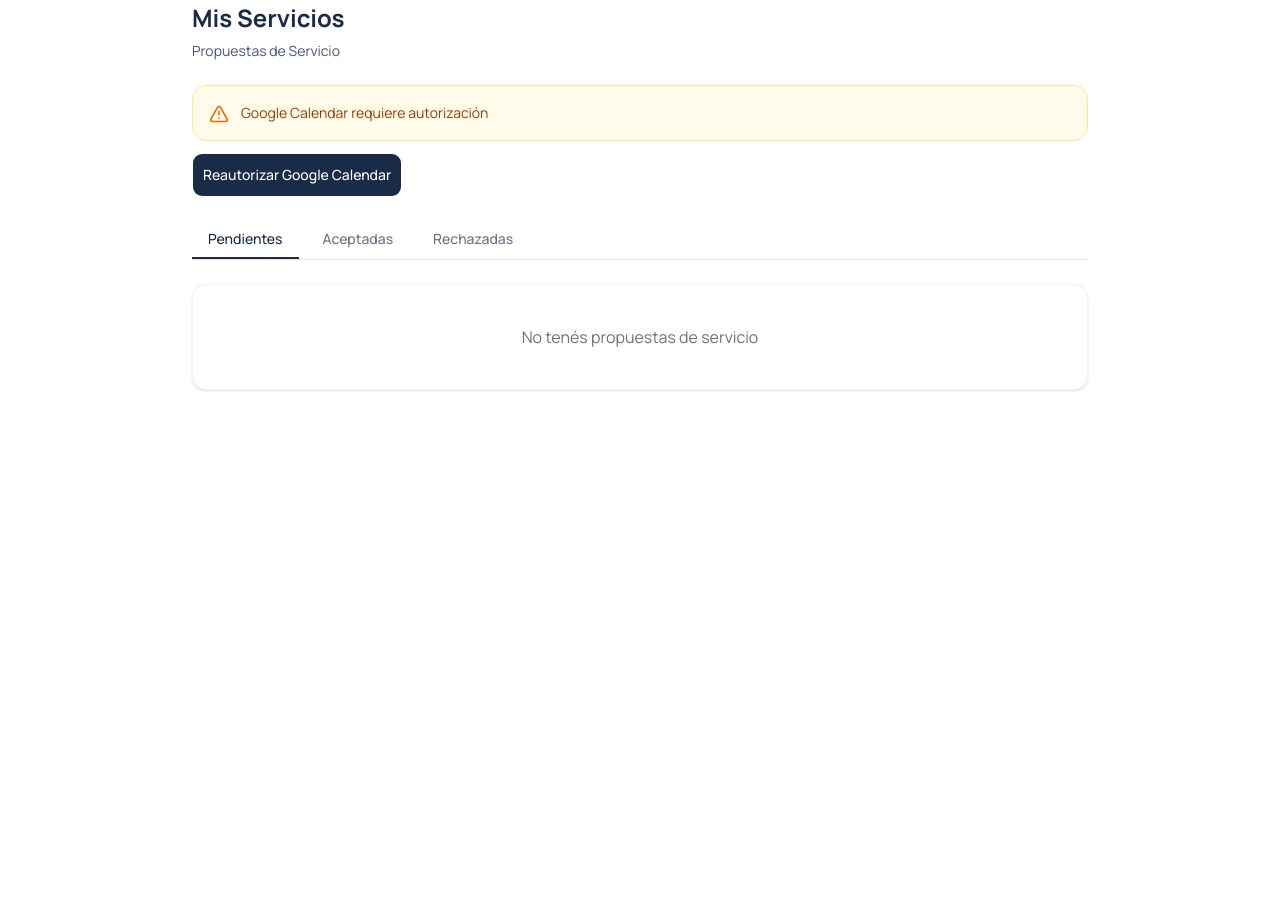
Test: ProposalHistoryView › shares a single pending authorization between list and order detail ($0)
Double-click the button "Reautorizar Google Calendar" at (297, 175), box [192,153,402,197]
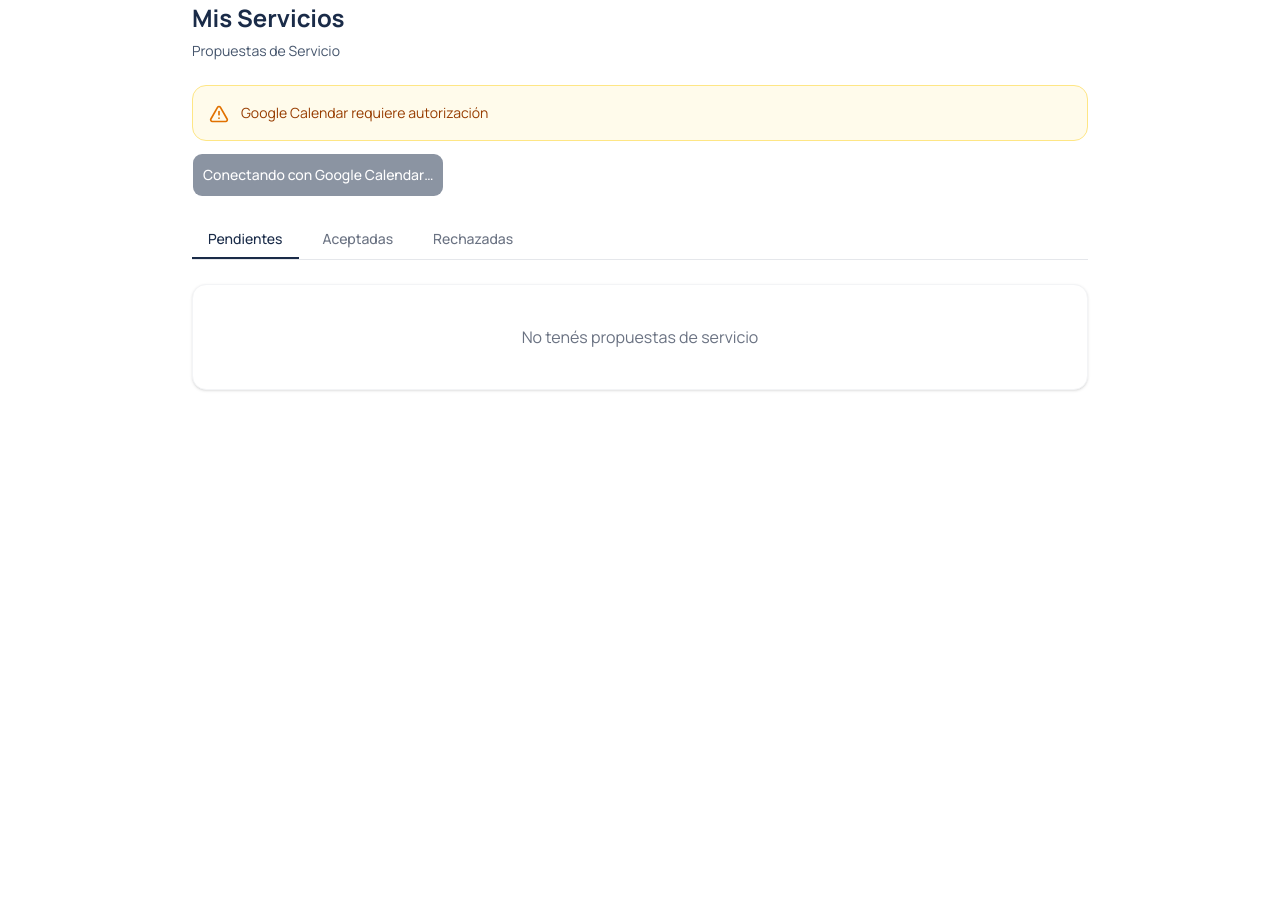
Result: the button named "Reautorizar Google Calendar" is disabled at [192,153,444,197]
Click the tab "Aceptadas" at (358, 240), box [307,221,409,259]
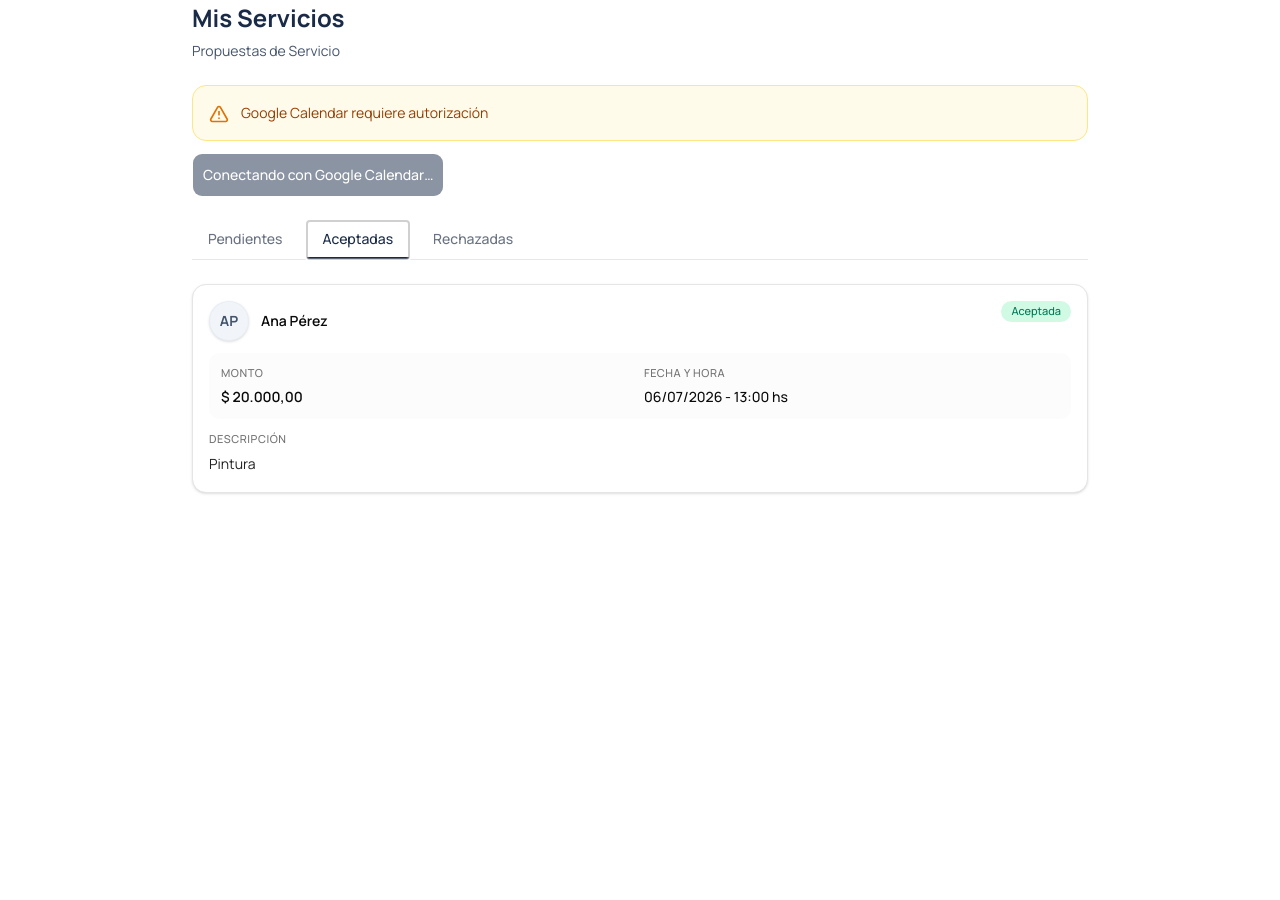
Click the button with test id "proposal-card" at (640, 388), box [192,284,1088,493]
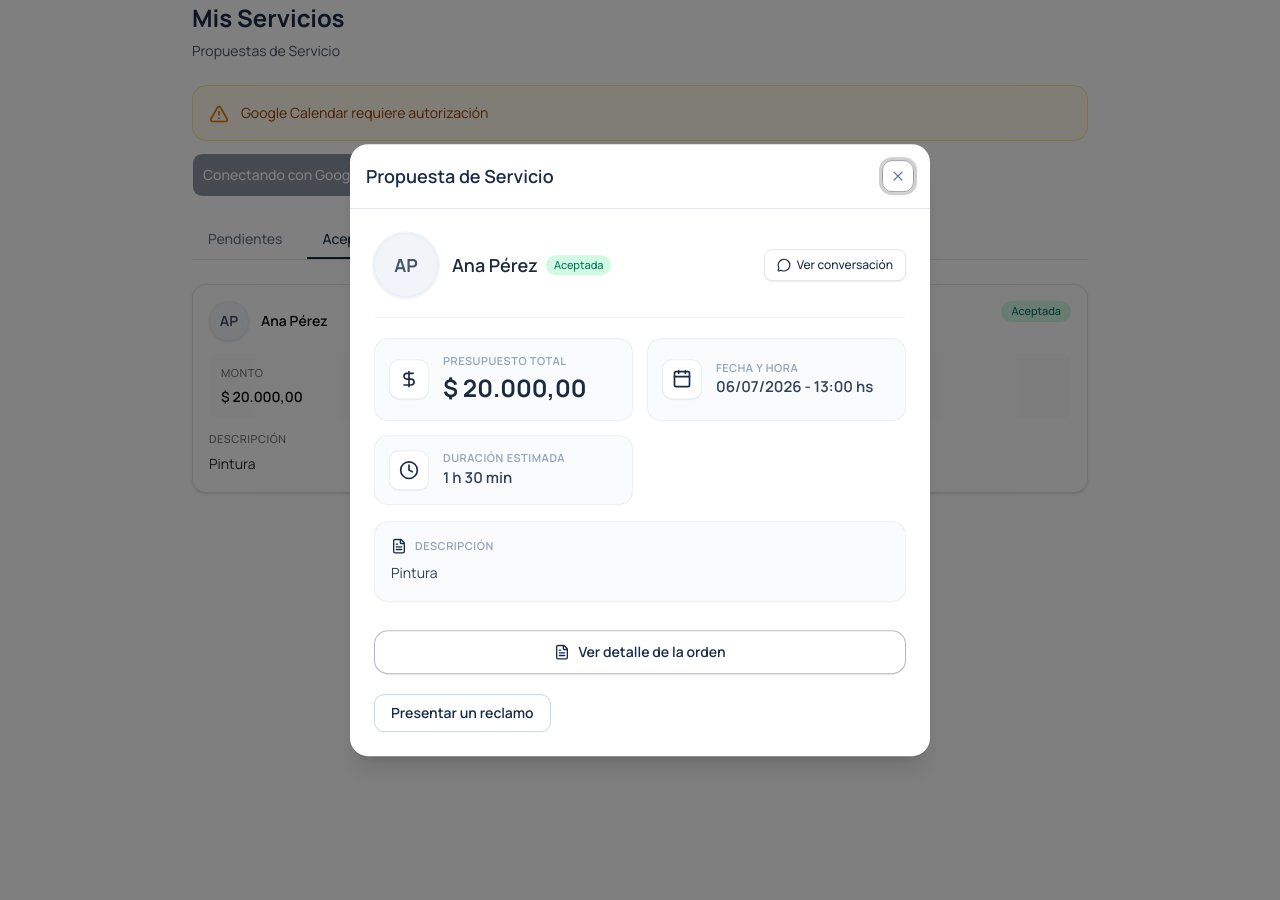
Click the button "Ver detalle de la orden" at (640, 652), box [374,630,906,674]
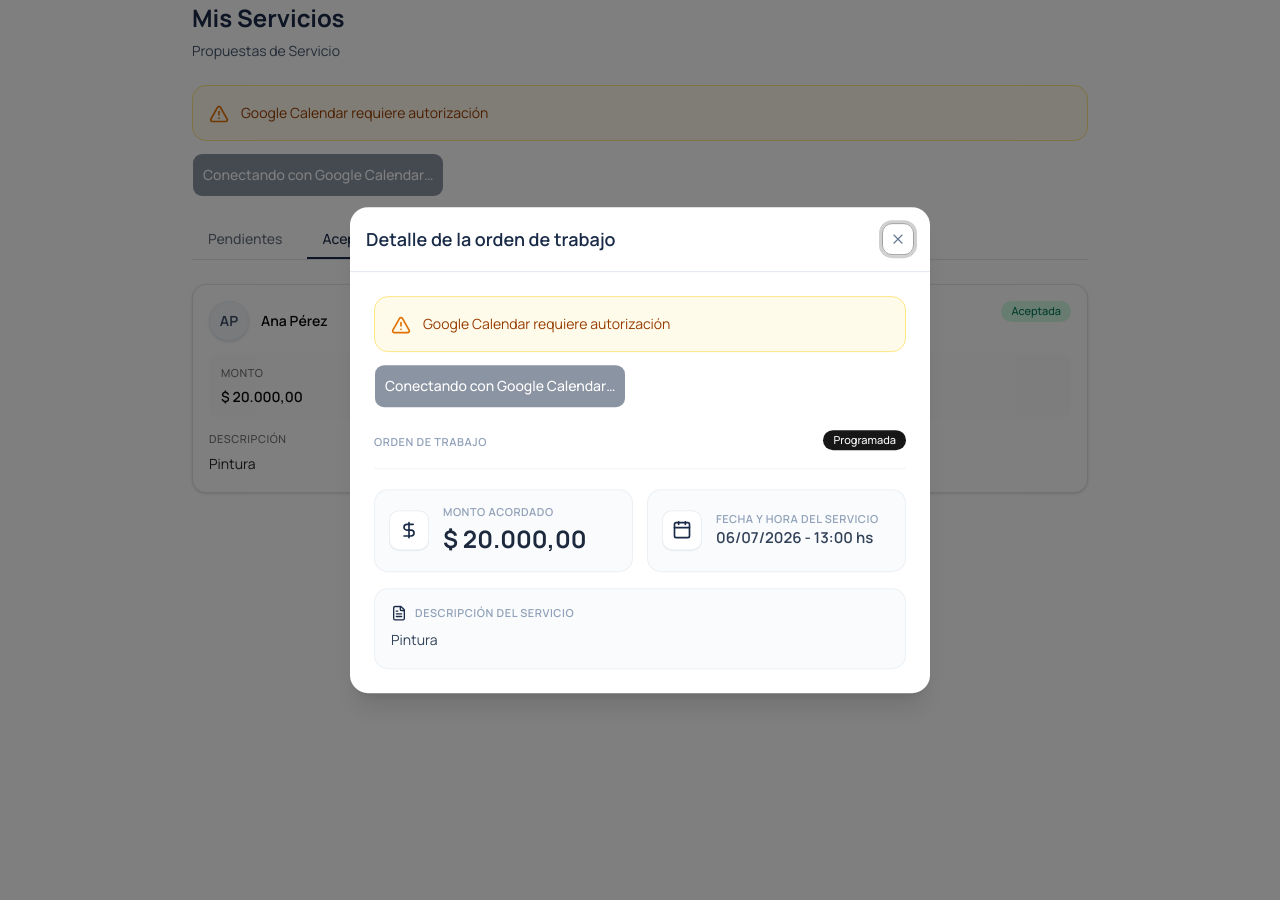
Result: the button "Conectando con Google Calendar…" is disabled at [374,364,626,408]
